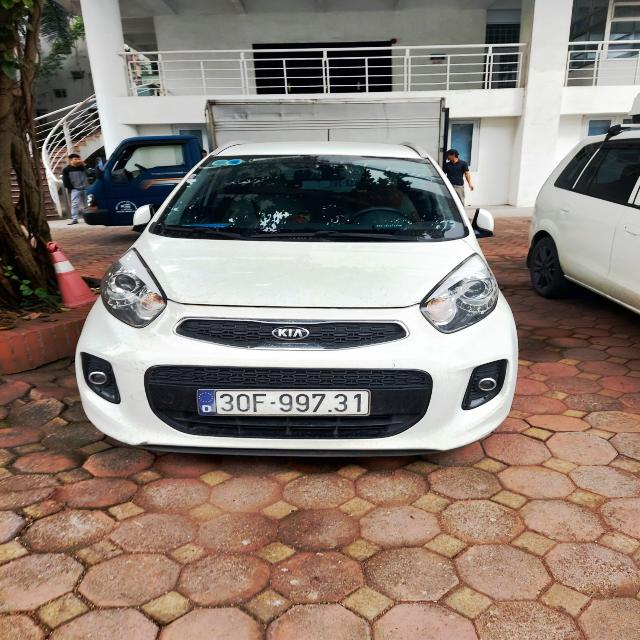license_plate: (217, 391, 369, 416)
